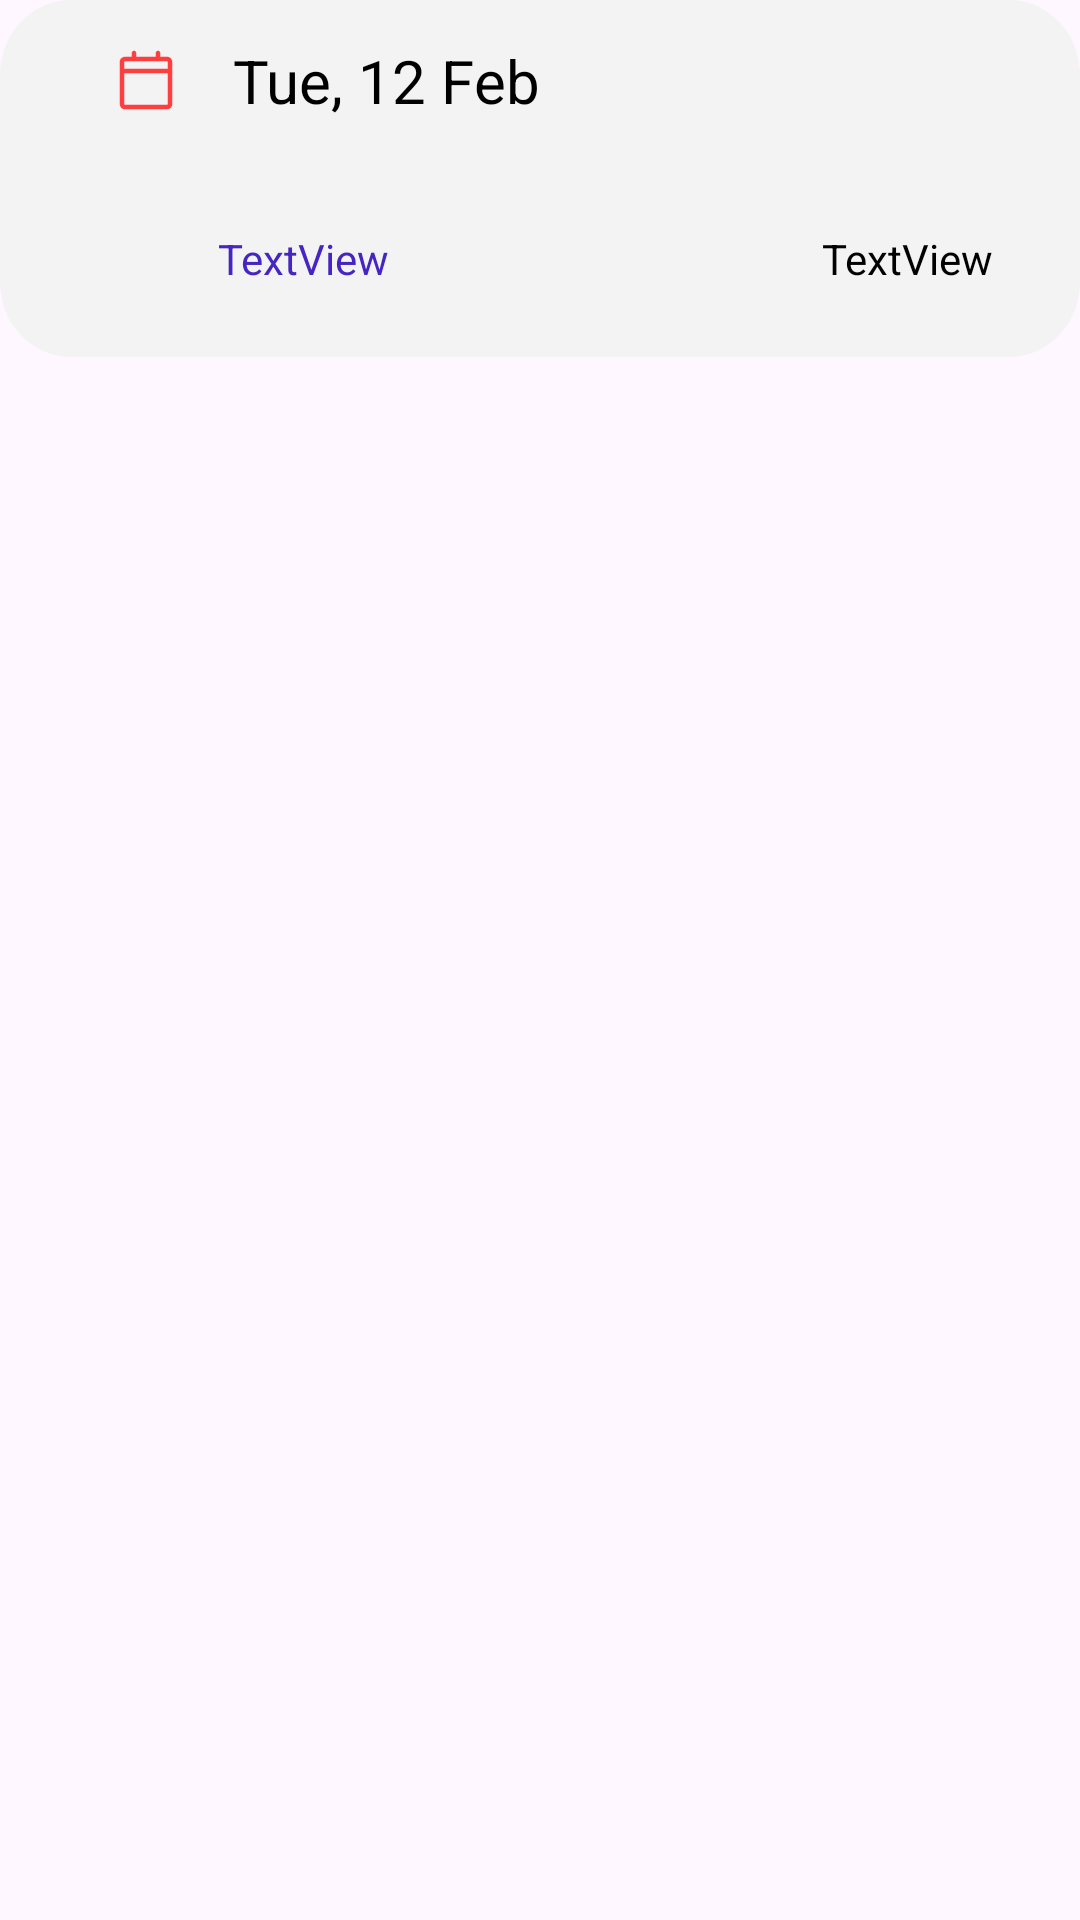

Icons on this 1080px×1920px Android screen, each with the point to tap as point (x, y):
calender item: point (146, 80)
